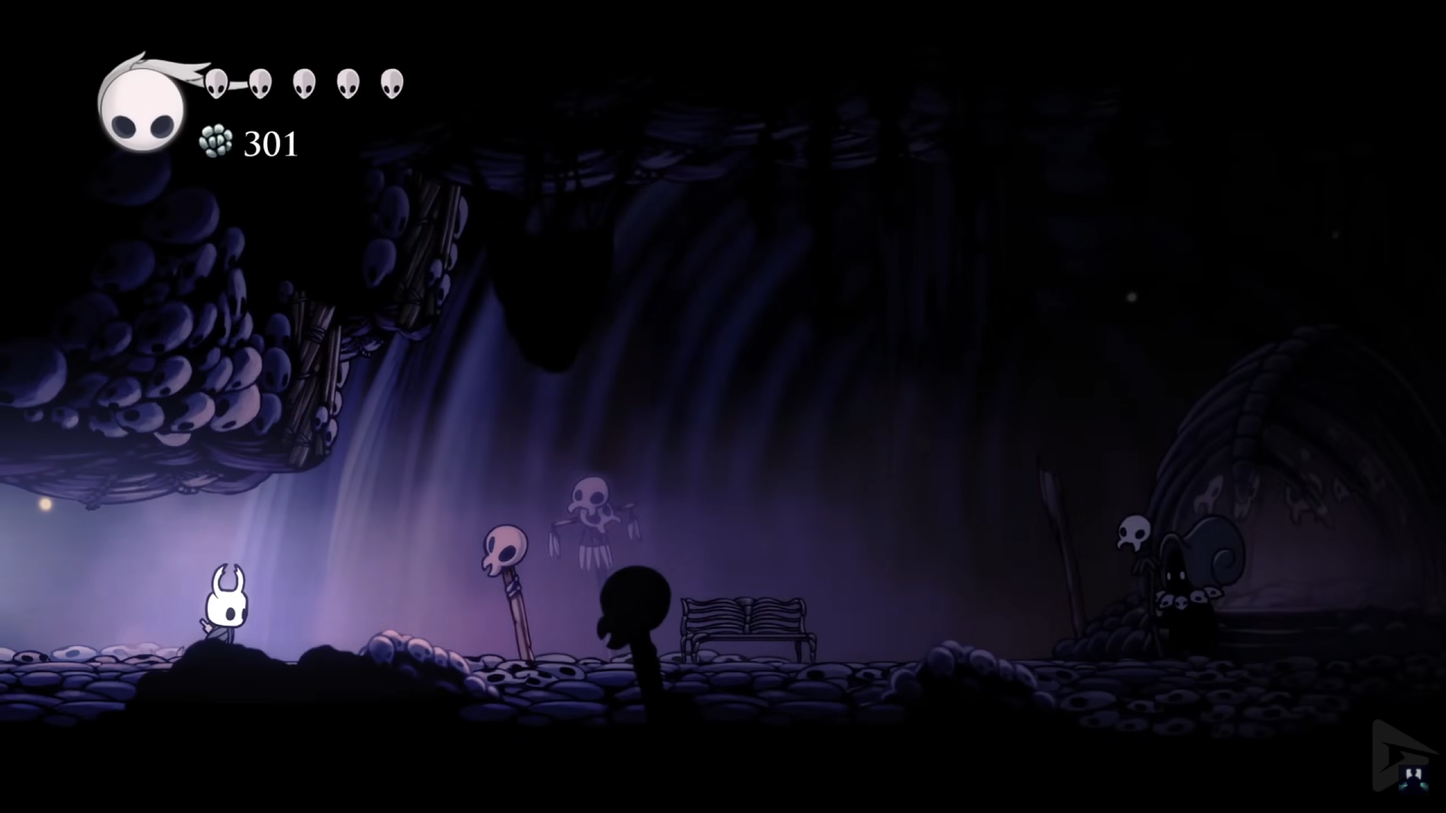HK: (194, 559, 257, 655)
